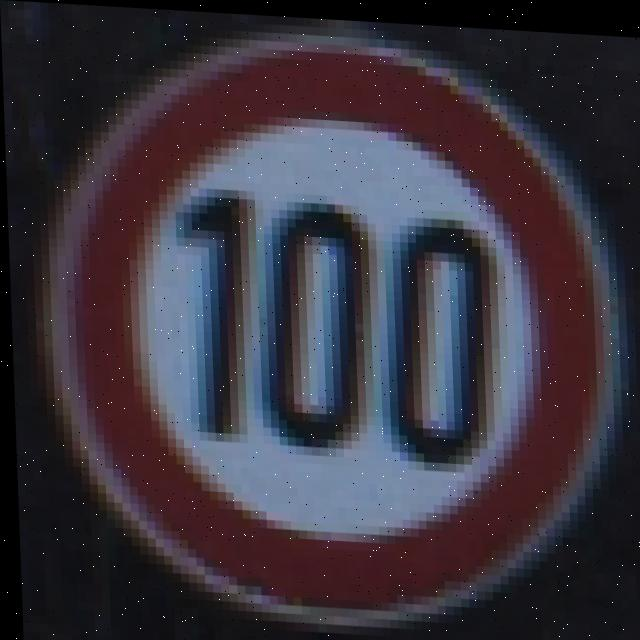speed_limit_100: (21, 26, 640, 637)
